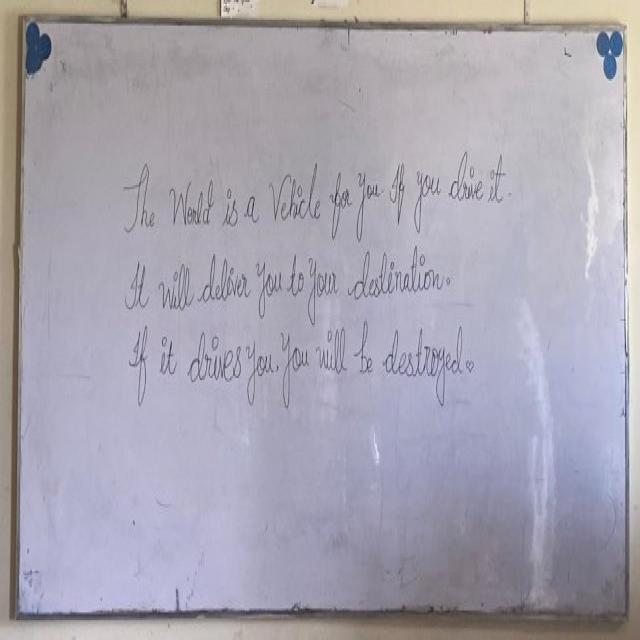White-board: (15, 15, 627, 622)
